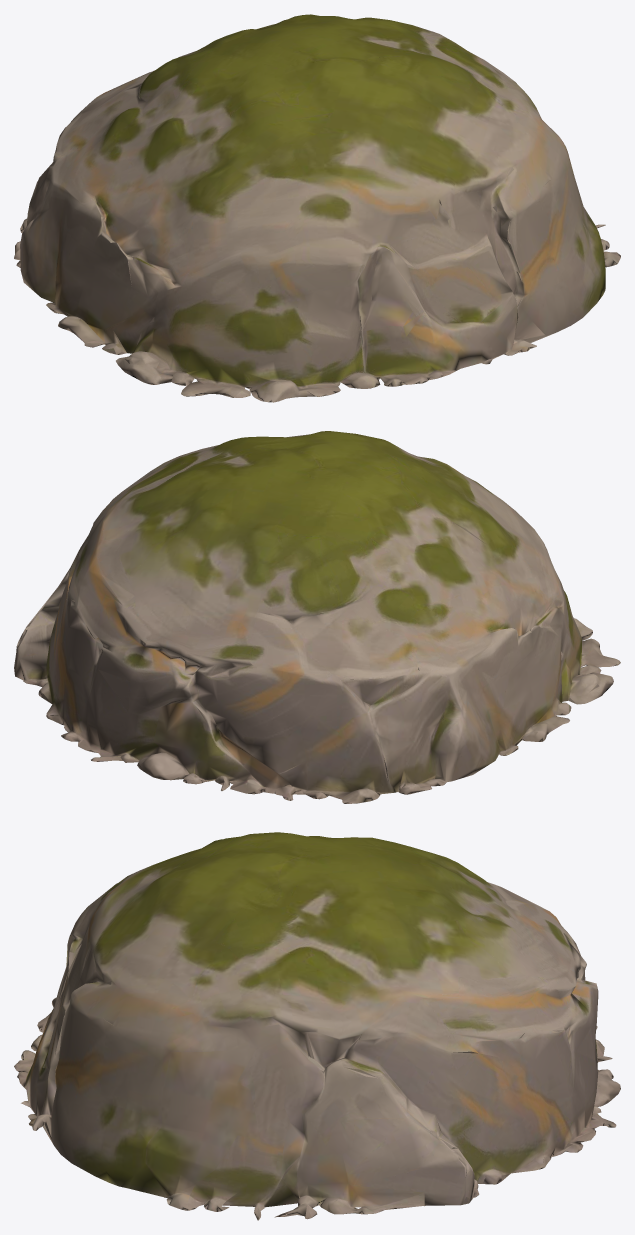
File: yuvakaya.glb
3 views of the same model, one above another, from view 1: azimuth 30°, elevation 25°; view 2: azimuth 150°, elevation 25°; view 3: azimuth 270°, elevation 25° (orthographic). The views are drawn at different scales.
Parts seen in each view (by area): view 1: prop; view 2: prop; view 3: prop.
Boxes of the visible parts, x1,y1,x2,y2 form: prop: (14, 14, 620, 402); prop: (14, 431, 620, 803); prop: (14, 832, 620, 1220).
Bounding box in the file's own units: 1.9 × 0.7709 × 1.86.
Materials: 1 (1 with a texture image).
